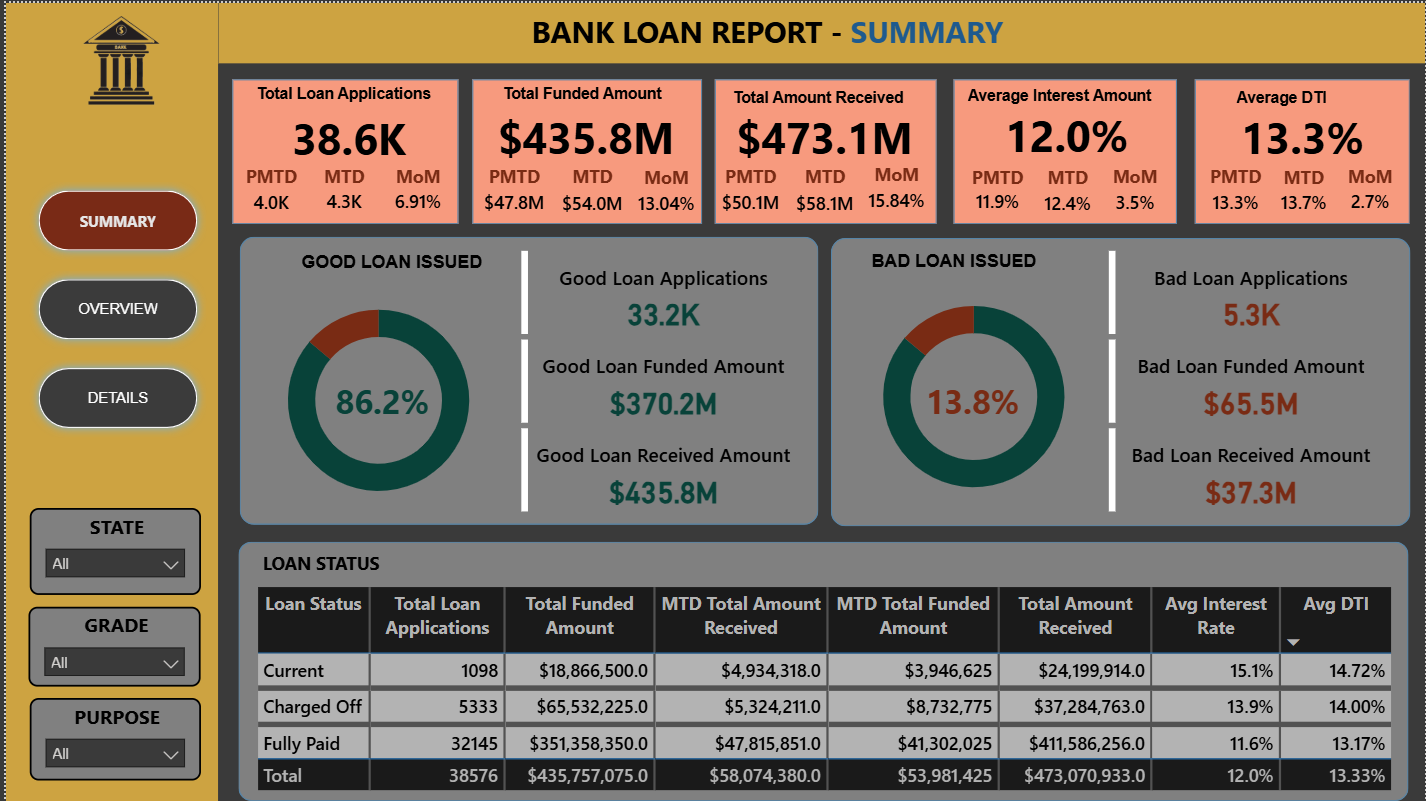

Layout of this report page (visuals, bound fields, positions):
{"tool":"powerbi","page":{"name":"SUMMARY","canvas":[1280,720],"ordinal":0},"visuals":[{"type":"shape","box":[191.6,0,1088.5,54.7],"z":0},{"type":"shape","box":[0,0,191.6,720.3],"z":1000},{"type":"textbox","box":[469,2.5,447.8,51],"z":2000},{"type":"group","id":"g1","title":"Group 1","box":[204,68.4,204,130.6],"z":3000},{"type":"shape","box":[204,68.4,204,130.6],"z":3000,"group":"g1"},{"type":"shape","box":[420.5,68.4,207.3,130.6],"z":3000,"group":"g2"},{"type":"shape","box":[639.5,68.4,200.2,130.6],"z":3000,"group":"g3"},{"type":"shape","box":[854.6,68.4,201.5,130.6],"z":3000,"group":"g4"},{"type":"shape","box":[1072.4,68.4,194,130.6],"z":3000,"group":"g5"},{"type":"shape","box":[210.2,211.1,521.9,259.6],"z":3000,"group":"g7"},{"type":"group","id":"g2","title":"Group 1","box":[420.5,68.4,209,129.4],"z":4000},{"type":"card","fields":{"Values":["financial_loan.Total Loan Applictions"]},"box":[225.1,94.5,168,53.7],"z":4000,"group":"g1"},{"type":"card","fields":{"Values":["financial_loan.Avg Interest Rate"]},"box":[857.5,94.7,197.5,49.7],"z":4000,"group":"g4"},{"type":"card","fields":{"Values":["financial_loan.Total Funded Amount"]},"box":[421.3,95.4,203.2,49.7],"z":4000,"group":"g2"},{"type":"card","fields":{"Values":["financial_loan.Total Amount Received"]},"box":[640.3,95.4,196.1,49.7],"z":4000,"group":"g3"},{"type":"card","fields":{"Values":["financial_loan.Avg DTI"]},"box":[1076.3,96.7,187.5,48.3],"z":4000,"group":"g5"},{"type":"donutChart","fields":{"Category":["financial_loan.Good vs Bad Loan"],"Y":["financial_loan.Total Loan Applications"]},"box":[218,251.3,235,214.2],"z":4000,"group":"g7"},{"type":"textbox","box":[221.4,68.4,175.4,35.4],"z":5000,"group":"g1"},{"type":"group","id":"g3","title":"Group 1","box":[638.2,68.4,201.5,130.6],"z":5000},{"type":"textbox","box":[443.1,68.9,164.2,35],"z":5000,"group":"g2"},{"type":"textbox","box":[862.3,70.4,193.4,32.7],"z":5000,"group":"g4"},{"type":"textbox","box":[650.3,71.2,173.3,32.7],"z":5000,"group":"g3"},{"type":"textbox","box":[1105,71.2,104.2,32.7],"z":5000,"group":"g5"},{"type":"group","id":"g4","title":"Group 1","box":[854.6,68.4,201.5,130.6],"z":6000},{"type":"card","title":"MTD","fields":{"Values":["financial_loan.MTD Total Amount Received"]},"box":[705.4,143.6,65.8,55.4],"z":6000,"group":"g3"},{"type":"card","title":"MTD","fields":{"Values":["financial_loan.MTD Total Funded Amount"]},"box":[491.4,143.8,74.6,55.2],"z":6000,"group":"g2"},{"type":"card","title":"MTD","fields":{"Values":["financial_loan.MTD Loan Applications"]},"box":[278.3,143.9,53.3,52.3],"z":6000,"group":"g1"},{"type":"card","title":"MTD","fields":{"Values":["financial_loan.MTD Avg Interest Rate"]},"box":[924.9,144.7,66.3,53.7],"z":6000,"group":"g4"},{"type":"card","title":"MTD","fields":{"Values":["financial_loan.MTD Avg DTI"]},"box":[1143.3,145.5,54.7,52.2],"z":6000,"group":"g5"},{"type":"textbox","box":[260.8,220.2,184.3,31.2],"z":6000,"group":"g7"},{"type":"group","id":"g5","title":"Group 1","box":[1072.4,68.4,194,130.6],"z":7000},{"type":"shape","box":[743.9,211.5,522.5,260],"z":7000,"group":"g8"},{"type":"card","title":"MoM","fields":{"Values":["financial_loan.MoM Total Amount Received"]},"box":[769.7,143.3,66.4,52.3],"z":8000,"group":"g3"},{"type":"card","title":"MoM","fields":{"Values":["financial_loan.MoM Loan Applications"]},"box":[338.4,143.9,66.9,52.3],"z":8000,"group":"g1"},{"type":"card","title":"MoM","fields":{"Values":["financial_loan.MoM Avg Interest Rate"]},"box":[985.2,144.3,65.9,53.5],"z":8000,"group":"g4"},{"type":"card","title":"MoM","fields":{"Values":["financial_loan.MoM Avg DTI"]},"box":[1198.7,144.3,63.8,52.5],"z":8000,"group":"g5"},{"type":"card","title":"MoM","fields":{"Values":["financial_loan.MoM Total Funded Amount"]},"box":[561.1,145.2,68.4,52.5],"z":8000,"group":"g2"},{"type":"card","title":"PMTD","fields":{"Values":["financial_loan.PMTD Avg Interest Rate"]},"box":[860.8,145.5,65.9,48.5],"z":8000},{"type":"card","fields":{"Values":["financial_loan.Good Loan %"]},"box":[282.9,342.2,112.9,36.3],"z":8000,"group":"g7"},{"type":"card","title":"PMTD","fields":{"Values":["financial_loan.PMTD Total Funded Amount"]},"box":[420.5,143.8,75.9,53.9],"z":9000,"group":"g2"},{"type":"card","title":"PMTD","fields":{"Values":["financial_loan.PMTD Loan Applications"]},"box":[204.6,143.9,68.3,53.7],"z":9000,"group":"g1"},{"type":"card","title":"PMTD","fields":{"Values":["financial_loan.PMTD Total Amount Received"]},"box":[638.2,144.3,67.2,53.5],"z":9000,"group":"g3"},{"type":"card","title":"PMTD","fields":{"Values":["financial_loan.PMTD Avg DTI"]},"box":[1077.4,144.3,64.7,53.5],"z":9000,"group":"g5"},{"type":"slicer","title":"STATE","fields":{"Values":["financial_loan.address_state"]},"box":[21.1,455.3,154.3,78.4],"z":9000},{"type":"slicer","title":"GRADE","fields":{"Values":["financial_loan.grade"]},"box":[19.9,544.9,155.5,72.1],"z":10000},{"type":"slicer","title":"PURPOSE","fields":{"Values":["financial_loan.purpose"]},"box":[21.4,626.7,154.4,74.4],"z":11000},{"type":"pageNavigator","box":[21.1,161.7,159.2,231.4],"z":12000},{"type":"image","box":[37.3,0,134.3,103.2],"z":13000},{"type":"cardVisual","fields":{"Data":["financial_loan.Good Loan Applications","financial_loan.Good Loan Funded Amount","financial_loan.Good Loan Received Amount"]},"box":[459.4,218.9,266.1,245.4],"z":14000,"group":"g7"},{"type":"group","id":"g6","title":"Group 2","box":[209.9,485.2,1054.9,233.9],"z":14000},{"type":"donutChart","fields":{"Category":["financial_loan.Good vs Bad Loan"],"Y":["financial_loan.Total Loan Applications"]},"box":[755.1,247.6,235.4,214.3],"z":15000,"group":"g8"},{"type":"group","id":"g7","title":"Group 3","box":[210.2,211.1,521.9,259.6],"z":16000},{"type":"textbox","box":[775.1,218,178.1,31.2],"z":16000,"group":"g8"},{"type":"group","id":"g8","title":"Group 4","box":[743.9,211.5,522.5,260],"z":17000},{"type":"card","fields":{"Values":["financial_loan.Bad Loan %"]},"box":[815.4,341.5,113.1,36.4],"z":17000,"group":"g8"},{"type":"cardVisual","fields":{"Data":["financial_loan.Bad Loan Applications","financial_loan.Bad Loan Funded Amount","financial_loan.Bad Loan Received Amount"]},"box":[989.5,218,266.4,245.7],"z":18000,"group":"g8"},{"type":"shape","box":[209.9,485.2,1054.9,233.9],"z":19000,"group":"g6"},{"type":"tableEx","fields":{"Values":["financial_loan.loan_status","financial_loan.Total Loan Applications","financial_loan.Total Funded Amount","financial_loan.MTD Total Amount Received","financial_loan.MTD Total Funded Amount","financial_loan.Total Amount Received","financial_loan.Avg Interest Rate","financial_loan.Avg DTI"]},"box":[221.2,521,1035,195.3],"z":20000,"group":"g6"},{"type":"textbox","box":[226.6,489.1,136.8,33.6],"z":21000,"group":"g6"}]}

Visuals, with their boxes in screenshot pixels (x1, y1, x2, y2), scaled from the page's 1280x720 canvas onto the 1426x801 screenshot:
shape: <region>213, 0, 1425, 61</region>
shape: <region>0, 0, 213, 800</region>
textbox: <region>522, 3, 1021, 60</region>
"Group 1" group: <region>227, 76, 455, 221</region>
shape: <region>227, 76, 455, 221</region>
shape: <region>468, 76, 699, 221</region>
shape: <region>712, 76, 935, 221</region>
shape: <region>952, 76, 1177, 221</region>
shape: <region>1195, 76, 1411, 221</region>
shape: <region>234, 235, 816, 524</region>
"Group 1" group: <region>468, 76, 701, 220</region>
card - financial_loan.Total Loan Applictions: <region>251, 105, 438, 165</region>
card - financial_loan.Avg Interest Rate: <region>955, 105, 1175, 161</region>
card - financial_loan.Total Funded Amount: <region>469, 106, 696, 161</region>
card - financial_loan.Total Amount Received: <region>713, 106, 932, 161</region>
card - financial_loan.Avg DTI: <region>1199, 108, 1408, 161</region>
donutChart - financial_loan.Good vs Bad Loan x financial_loan.Total Loan Applications: <region>243, 280, 505, 518</region>
textbox: <region>247, 76, 442, 115</region>
"Group 1" group: <region>711, 76, 935, 221</region>
textbox: <region>494, 77, 677, 116</region>
textbox: <region>961, 78, 1176, 115</region>
textbox: <region>724, 79, 918, 116</region>
textbox: <region>1231, 79, 1347, 116</region>
"Group 1" group: <region>952, 76, 1177, 221</region>
"MTD" card: <region>786, 160, 859, 221</region>
"MTD" card: <region>547, 160, 631, 221</region>
"MTD" card: <region>310, 160, 369, 218</region>
"MTD" card: <region>1030, 161, 1104, 221</region>
"MTD" card: <region>1274, 162, 1335, 220</region>
textbox: <region>291, 245, 496, 280</region>
"Group 1" group: <region>1195, 76, 1411, 221</region>
shape: <region>829, 235, 1411, 525</region>
"MoM" card: <region>857, 159, 931, 218</region>
"MoM" card: <region>377, 160, 452, 218</region>
"MoM" card: <region>1098, 161, 1171, 220</region>
"MoM" card: <region>1335, 161, 1407, 219</region>
"MoM" card: <region>625, 162, 701, 220</region>
"PMTD" card: <region>959, 162, 1032, 216</region>
card - financial_loan.Good Loan %: <region>315, 381, 441, 421</region>
"PMTD" card: <region>468, 160, 553, 220</region>
"PMTD" card: <region>228, 160, 304, 220</region>
"PMTD" card: <region>711, 161, 786, 220</region>
"PMTD" card: <region>1200, 161, 1272, 220</region>
"STATE" slicer: <region>24, 507, 195, 594</region>
"GRADE" slicer: <region>22, 606, 195, 686</region>
"PURPOSE" slicer: <region>24, 697, 196, 780</region>
pageNavigator: <region>24, 180, 201, 437</region>
image: <region>42, 0, 191, 115</region>
cardVisual - financial_loan.Good Loan Applications x financial_loan.Good Loan Funded Amount: <region>512, 244, 808, 517</region>
"Group 2" group: <region>234, 540, 1409, 800</region>
donutChart - financial_loan.Good vs Bad Loan x financial_loan.Total Loan Applications: <region>841, 275, 1103, 514</region>
"Group 3" group: <region>234, 235, 816, 524</region>
textbox: <region>864, 243, 1062, 277</region>
"Group 4" group: <region>829, 235, 1411, 525</region>
card - financial_loan.Bad Loan %: <region>908, 380, 1034, 420</region>
cardVisual - financial_loan.Bad Loan Applications x financial_loan.Bad Loan Funded Amount: <region>1102, 243, 1399, 516</region>
shape: <region>234, 540, 1409, 800</region>
tableEx - financial_loan.loan_status x financial_loan.Total Loan Applications: <region>246, 580, 1399, 797</region>
textbox: <region>252, 544, 405, 582</region>
